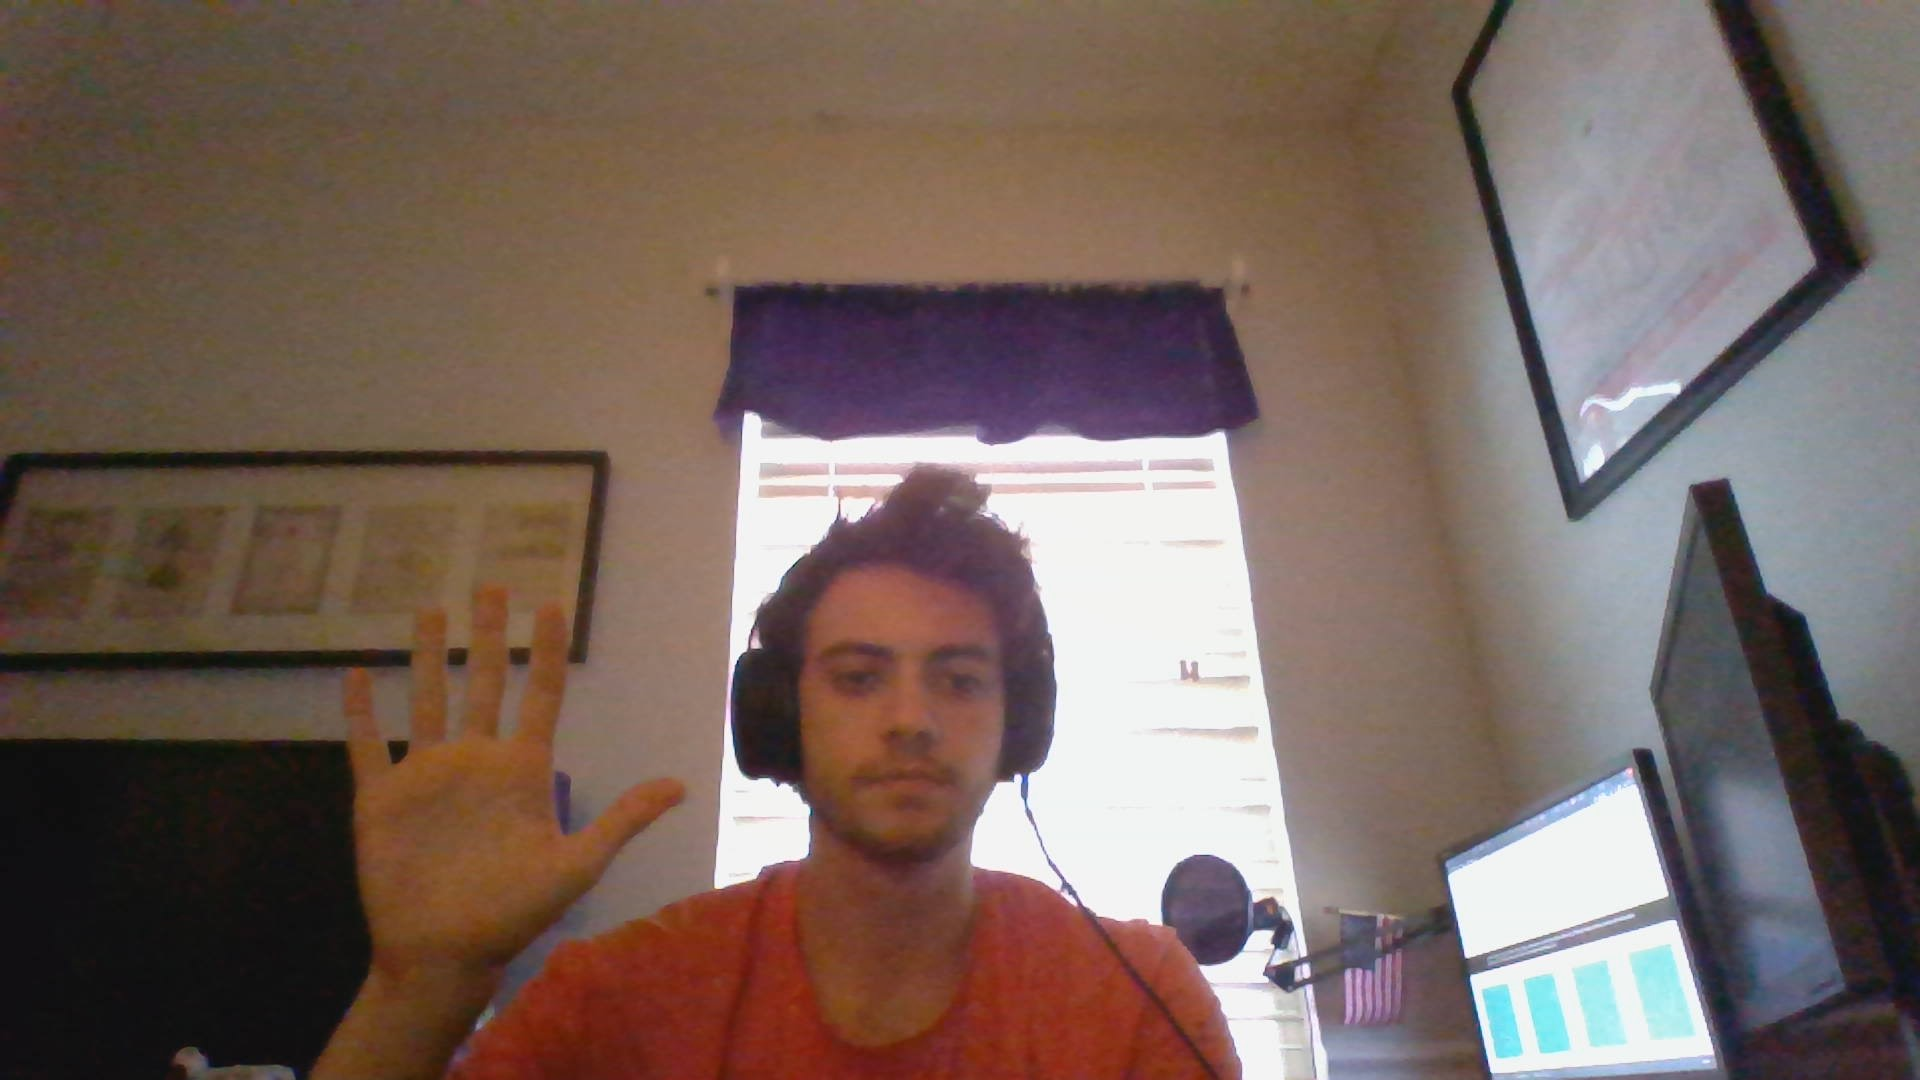Right Palm Up: (322, 579, 692, 945)
